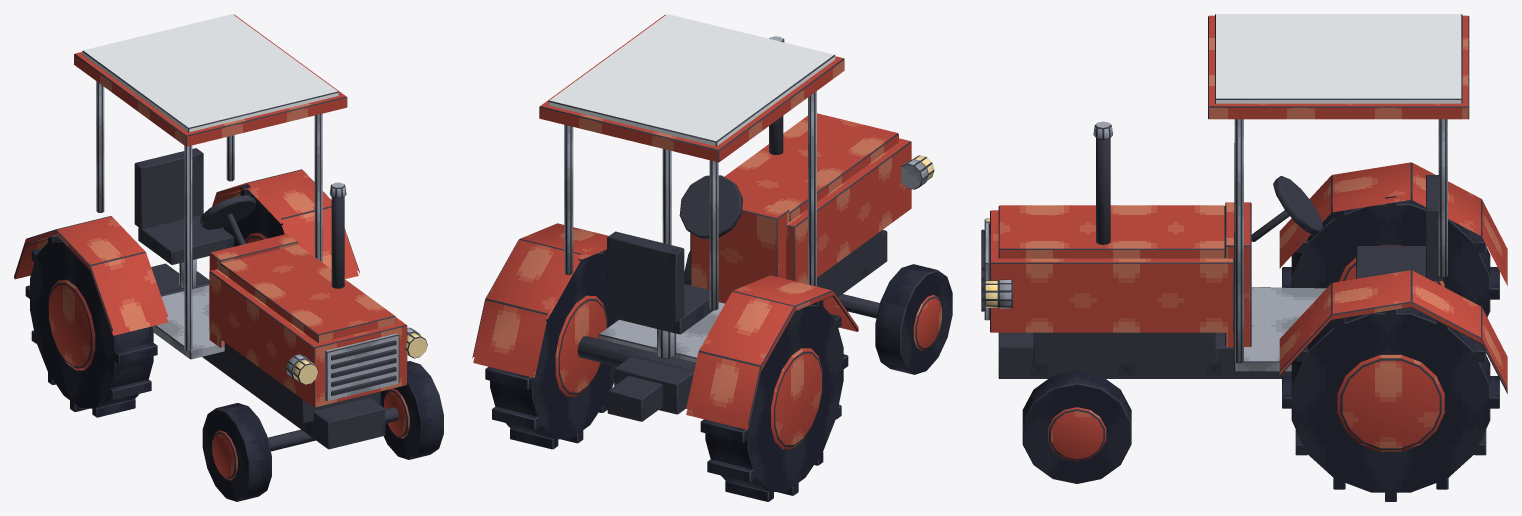
Rendered from cn_tractor_0.glb.
3 renders of one model, left to right at view 1: azimuth 30°, elevation 25°; view 2: azimuth 150°, elevation 25°; view 3: azimuth 270°, elevation 25°, orthographic. The views are drawn at different scales.
Visible parts, largest first — view 1: cn_tractor_1; view 2: cn_tractor_1; view 3: cn_tractor_1.
Boxes of the visible parts, box(x1,y1,x2,y2) form: cn_tractor_1: box(14, 14, 443, 501); cn_tractor_1: box(472, 14, 952, 501); cn_tractor_1: box(981, 14, 1507, 501).
Bounding box in the file's own units: 1.9 × 2.4 × 3.02.
Materials: 6 (6 with a texture image).
